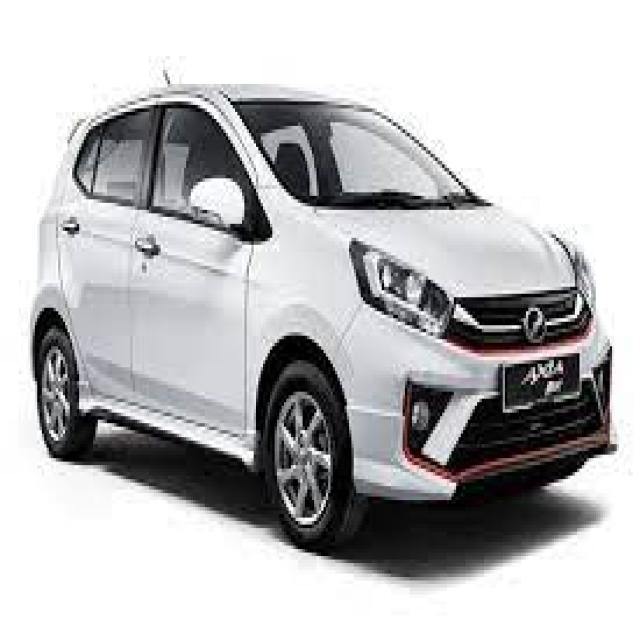PeroduaAxia: (28, 70, 617, 553)
